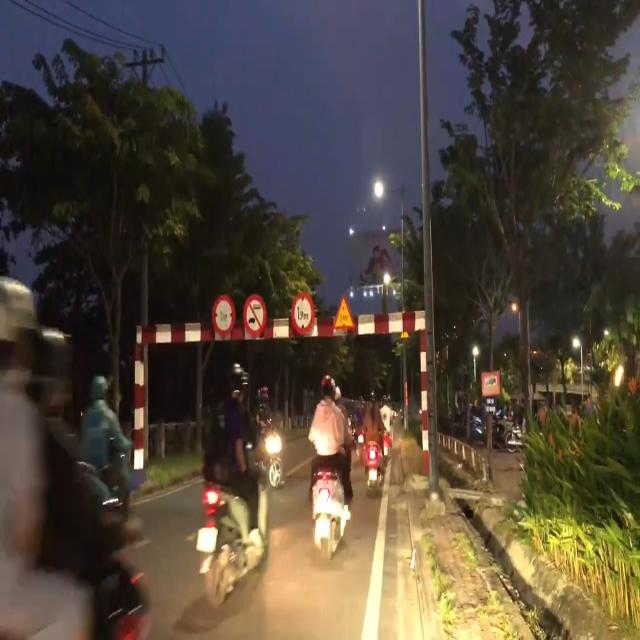Bien bao cam xe oto khach va xe oto tai: (242, 289, 268, 340)
Bien bao chieu cao tinh khong thuc te: (330, 288, 357, 333)
Bien bao han che chieu cao: (291, 286, 317, 341)
